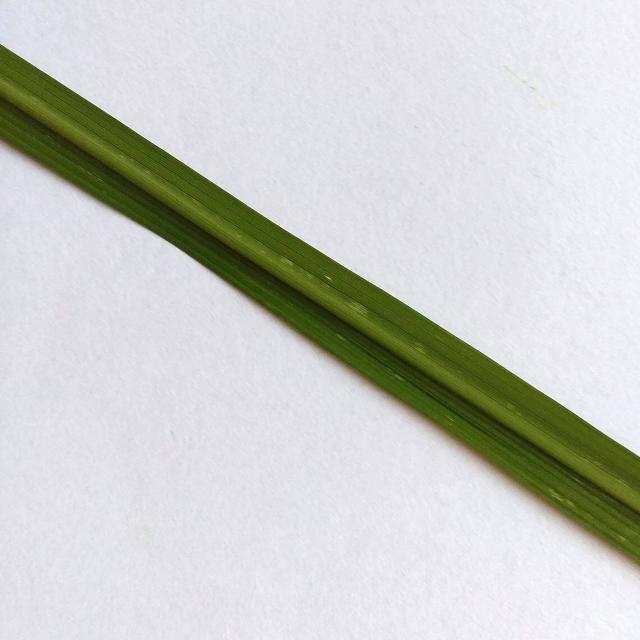Rice_Healthy: (0, 45, 640, 563)
